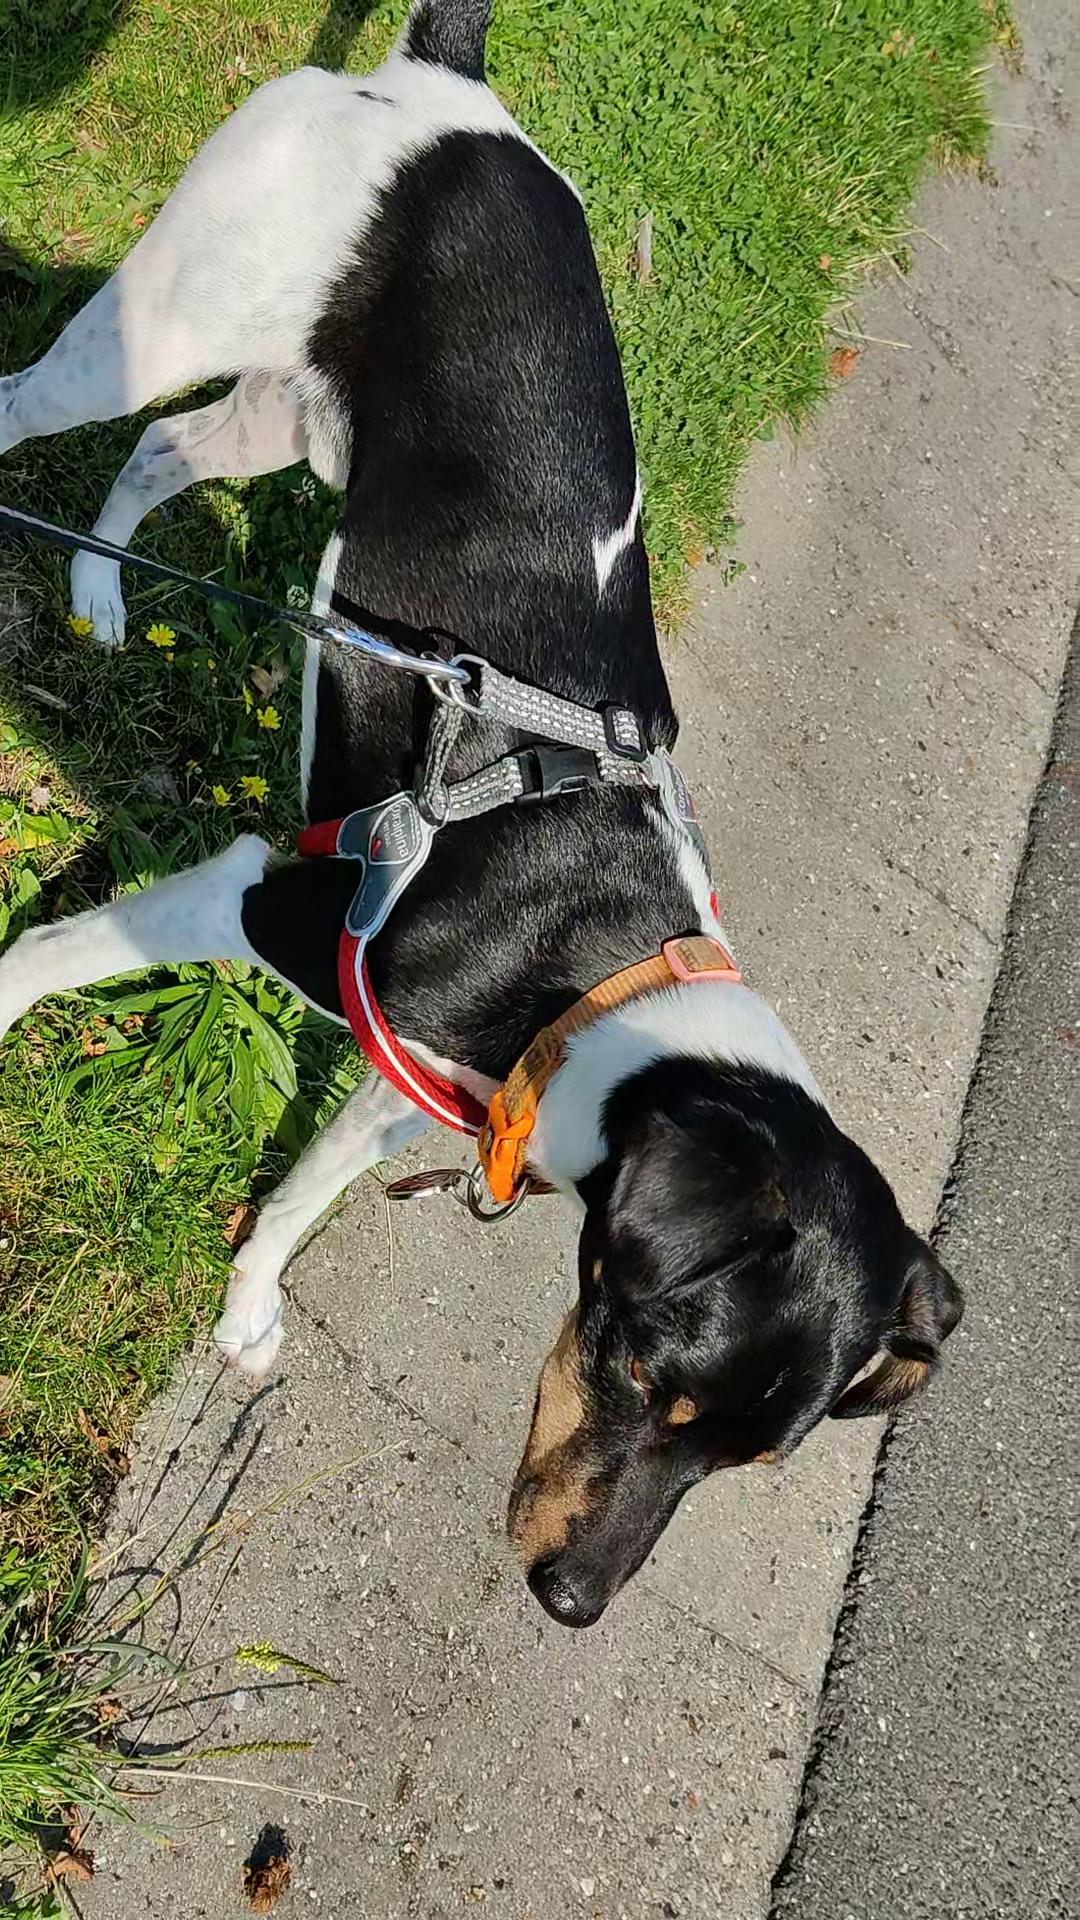Dog: (0, 0, 976, 1650)
